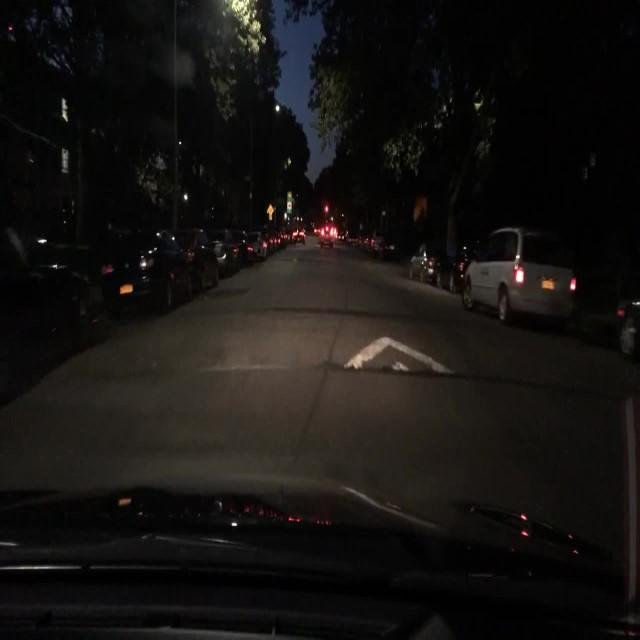normal: (464, 226, 581, 329), (99, 231, 196, 318), (176, 230, 222, 292), (212, 241, 238, 279), (244, 229, 268, 263)
